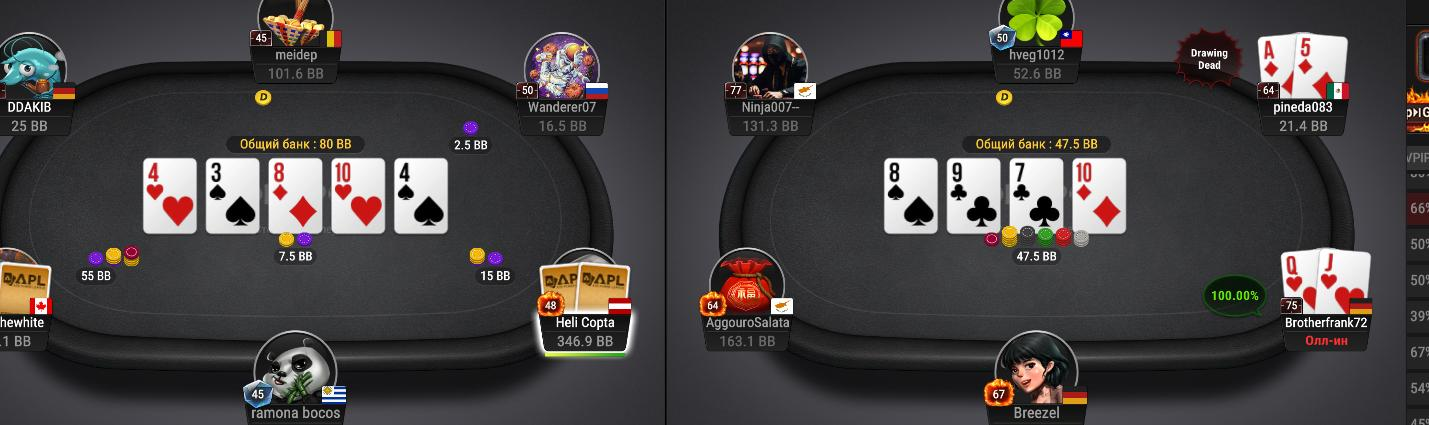10d: (1074, 159, 1126, 233)
10h: (332, 159, 384, 234)
3s: (207, 159, 260, 233)
4h: (144, 157, 199, 233)
4s: (394, 159, 447, 234)
5d: (1296, 33, 1344, 99)
7c: (1011, 158, 1062, 232)
8d: (269, 159, 322, 233)
8s: (884, 160, 939, 231)
9c: (946, 159, 1000, 231)
Ad: (1259, 36, 1297, 99)
Jh: (1318, 247, 1371, 313)
Qh: (1282, 247, 1321, 314)
